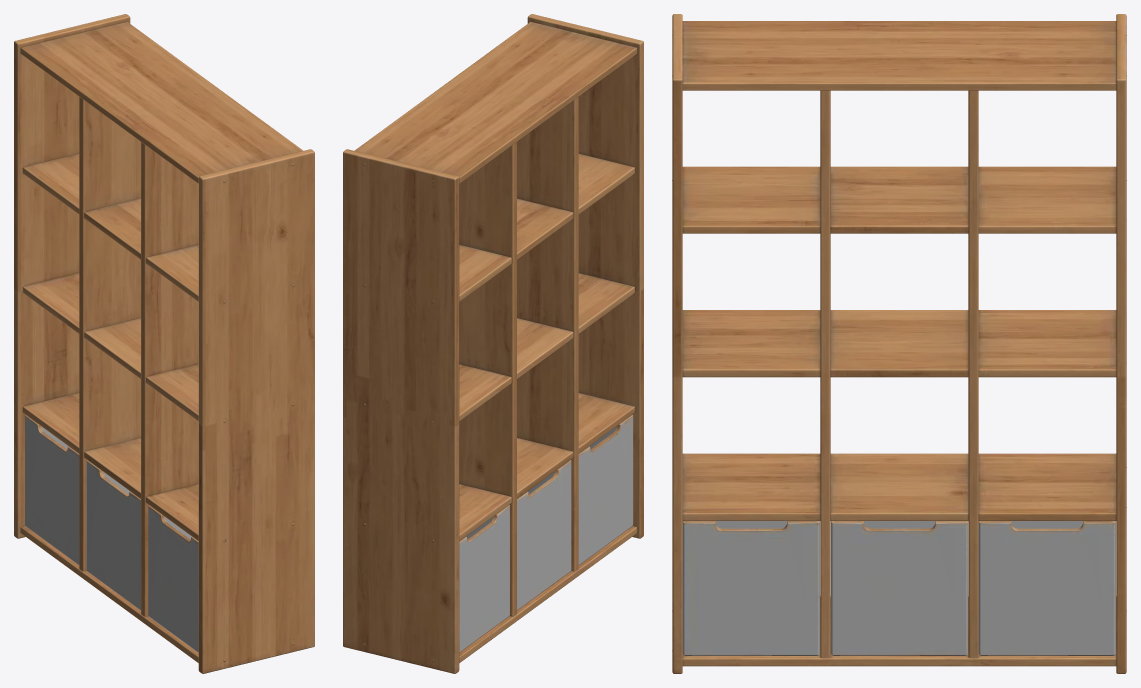
Rendered from wooden_display_shelves_01.glb.
The picture shows the model from 3 angles, left to right: view 1: azimuth 30°, elevation 25°; view 2: azimuth 150°, elevation 25°; view 3: azimuth 270°, elevation 25°; orthographic projection. The views are drawn at different scales.
Parts seen in each view (by area): view 1: wooden_display_shelves_01; view 2: wooden_display_shelves_01; view 3: wooden_display_shelves_01.
Boxes of the visible parts, x1,y1,x2,y2 form: wooden_display_shelves_01: (14, 14, 314, 673); wooden_display_shelves_01: (343, 14, 643, 673); wooden_display_shelves_01: (672, 14, 1126, 673).
Size of the model in its own units: 0.3714 by 1.56 by 1.08.
Materials: 1 (1 with a texture image).
